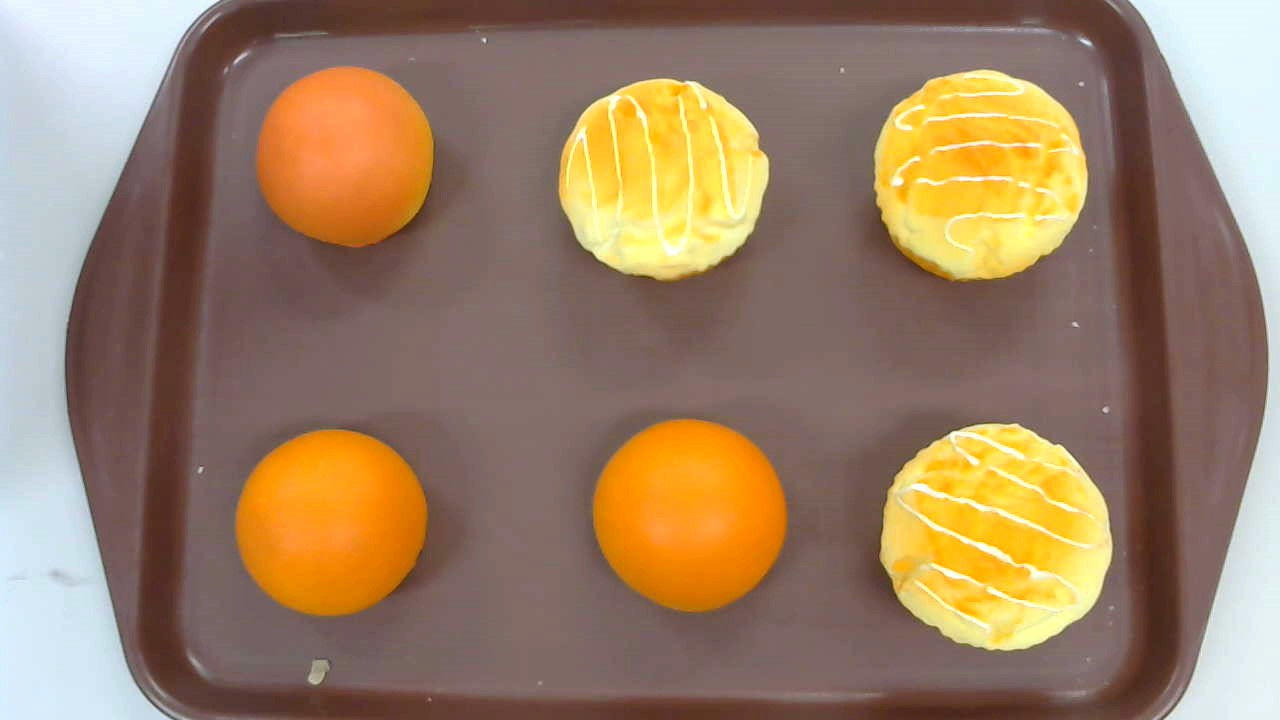bun: (591, 416, 788, 611), (235, 430, 428, 618), (256, 66, 434, 247)
cupcake: (878, 422, 1112, 653), (872, 68, 1088, 281), (558, 76, 770, 282)
